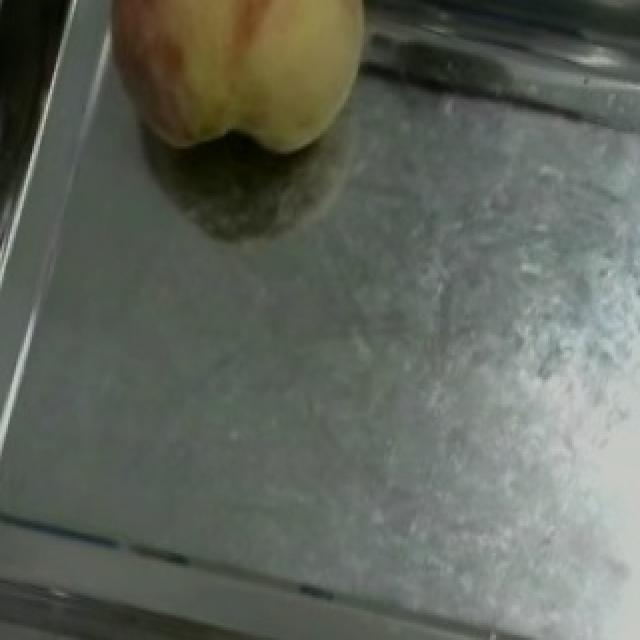Fruit: (78, 0, 400, 189)
